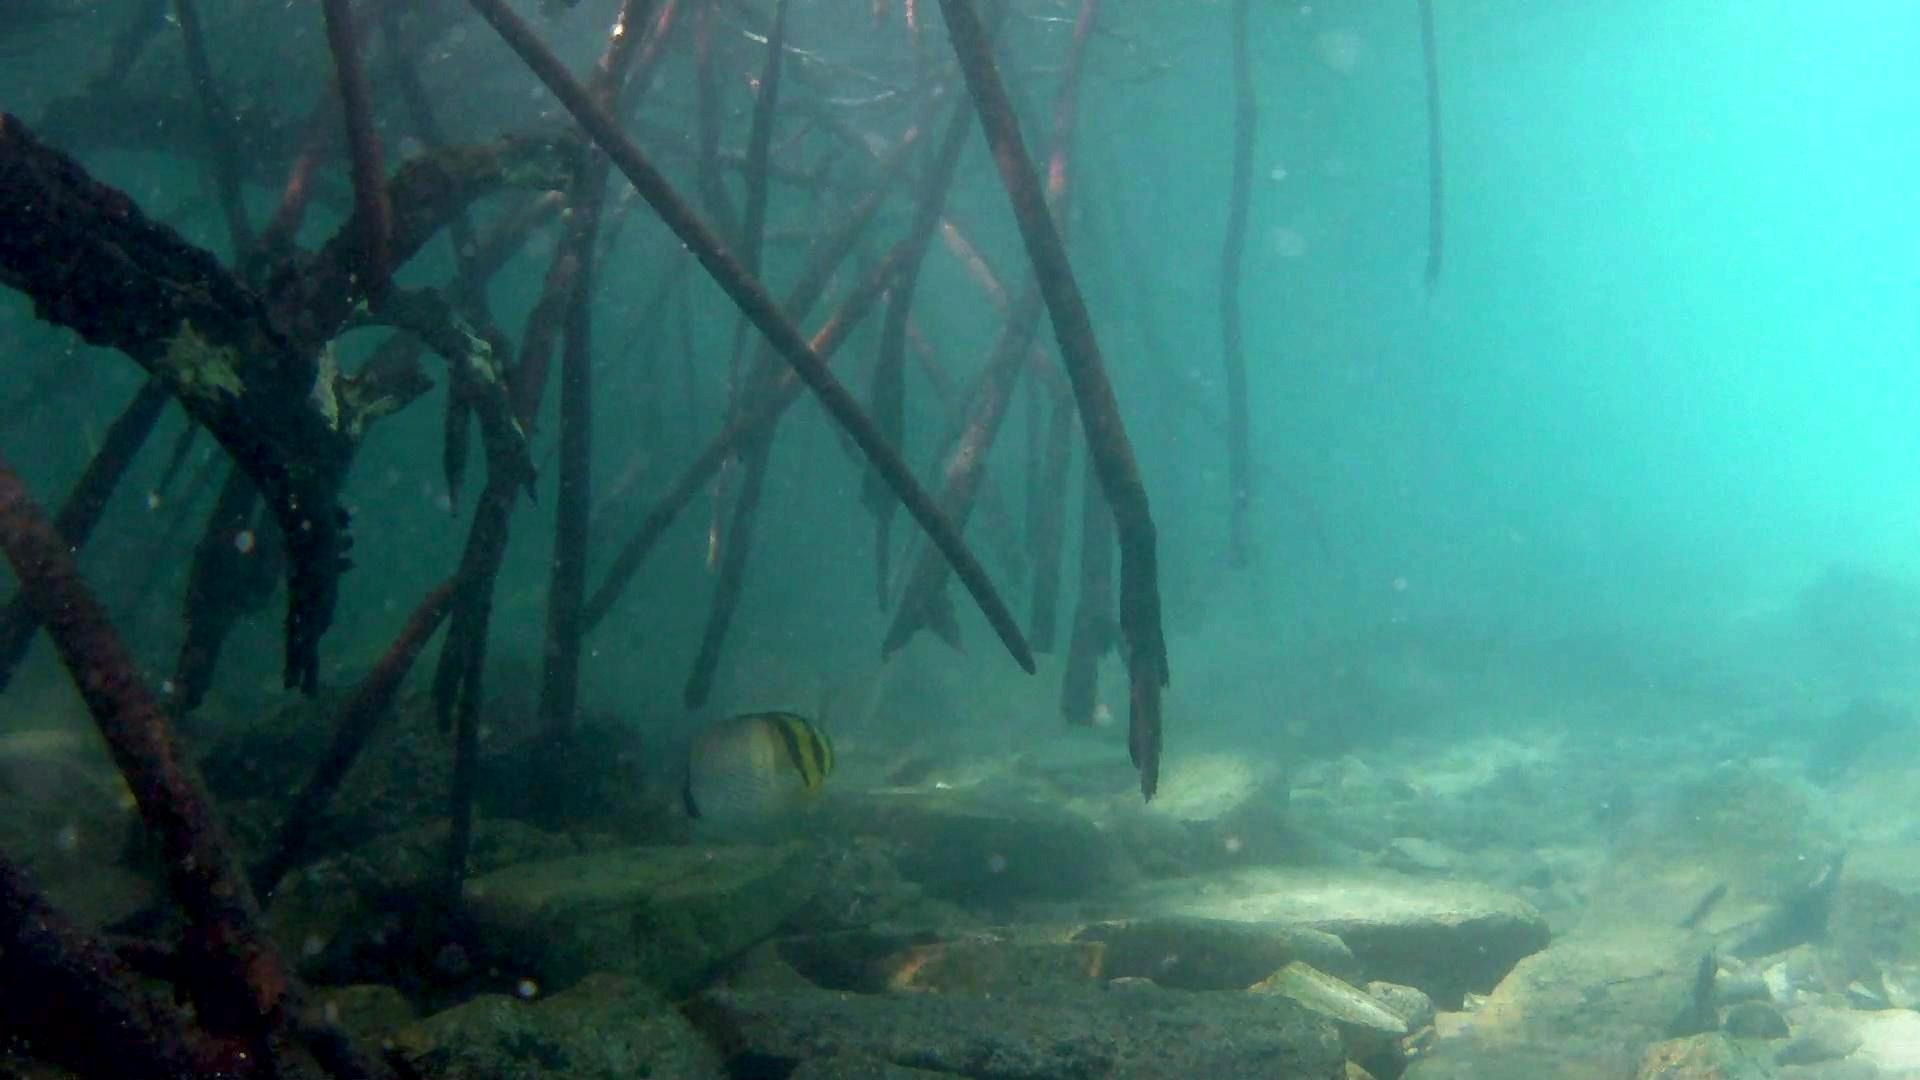chaetodon vagabundus: (659, 702, 843, 841)
